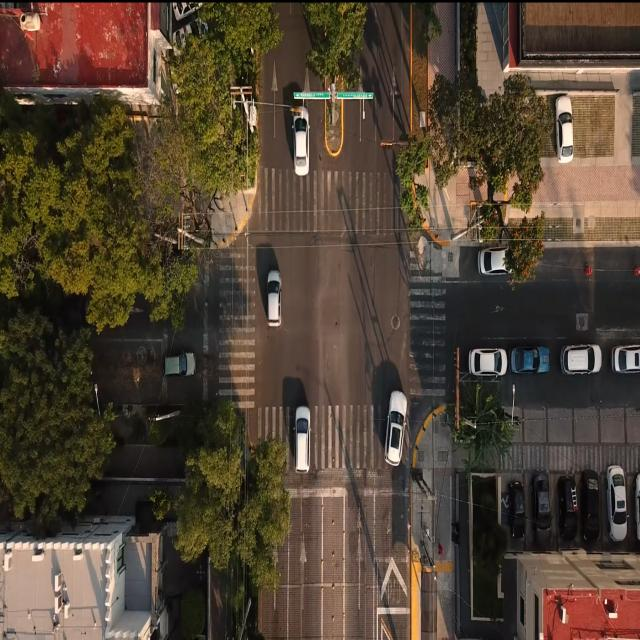cars: (383, 389, 407, 466), (606, 464, 627, 542), (557, 472, 578, 542), (580, 468, 600, 541), (290, 105, 310, 176), (501, 480, 525, 537), (560, 343, 602, 375), (554, 94, 573, 163), (530, 470, 551, 530), (293, 405, 311, 473), (468, 347, 507, 378), (509, 345, 550, 374), (477, 245, 513, 276), (266, 270, 282, 326), (163, 351, 196, 377), (611, 344, 639, 373), (633, 472, 640, 540)
